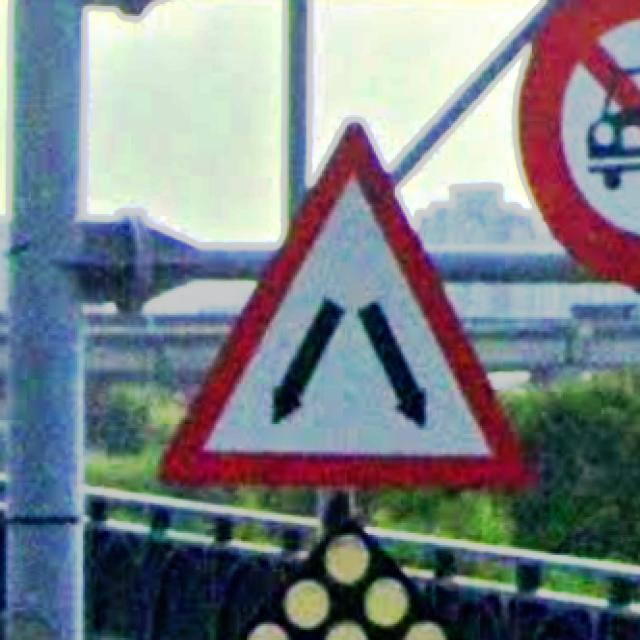diverge: (156, 113, 534, 499)
